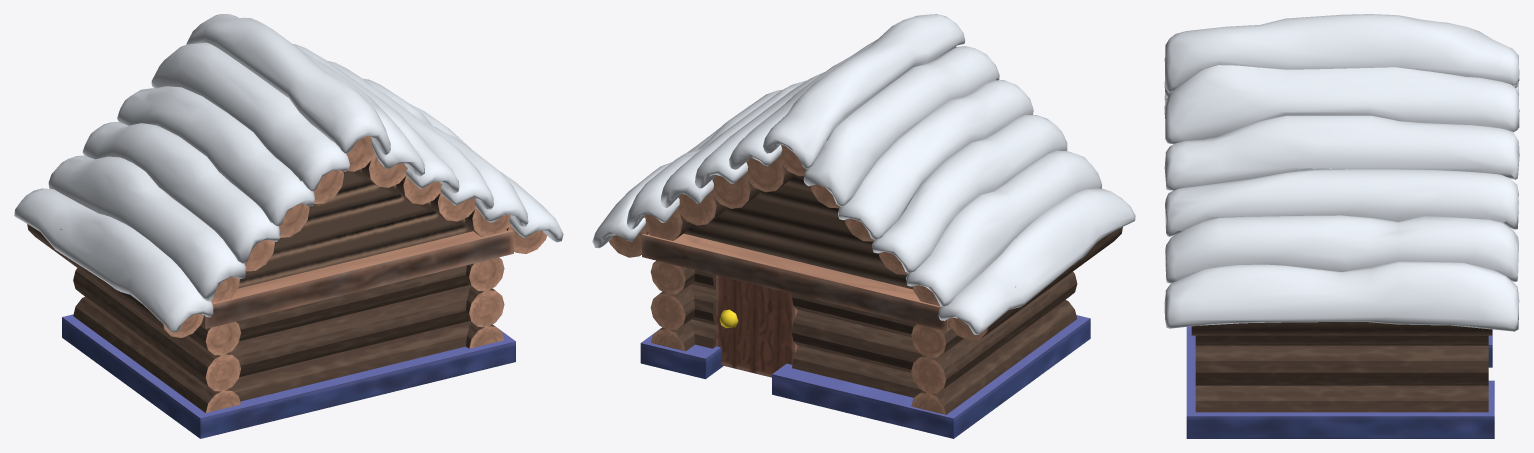
Rendered from cabin_8.glb.
The picture shows the model from 3 angles, left to right: view 1: azimuth 30°, elevation 25°; view 2: azimuth 150°, elevation 25°; view 3: azimuth 270°, elevation 25°; orthographic projection. The views are drawn at different scales.
Visible parts, largest first — view 1: Snow, Wall Back.005, Base.007, Top of House.007, Wall Right.009, Plank.049, Roof.007, Wall Left.009; view 2: Snow, Base.007, Wall Front.006, Top of House.007, Wall Right.009, Plank.049, Roof.007, Door, Wall Left.009; view 3: Snow, Wall Left.009, Base.007, Roof.007.
Boxes of the visible parts, <box> form: Snow: <box>14,14,563,332</box>; Wall Back.005: <box>229,265,470,401</box>; Base.007: <box>62,314,515,438</box>; Top of House.007: <box>238,169,472,288</box>; Wall Right.009: <box>73,268,240,412</box>; Plank.049: <box>200,230,513,328</box>; Roof.007: <box>27,136,547,337</box>; Wall Left.009: <box>466,257,504,348</box>; Snow: <box>592,14,1135,334</box>; Base.007: <box>640,315,1090,438</box>; Wall Front.006: <box>690,270,922,397</box>; Top of House.007: <box>684,174,913,289</box>; Wall Right.009: <box>911,272,1077,414</box>; Plank.049: <box>642,233,951,331</box>; Roof.007: <box>609,145,1122,340</box>; Door: <box>716,275,799,377</box>; Wall Left.009: <box>650,260,694,351</box>; Snow: <box>1164,14,1519,331</box>; Wall Left.009: <box>1195,335,1488,412</box>; Base.007: <box>1186,326,1494,438</box>; Roof.007: <box>1191,322,1492,335</box>.
Size of the model in its own units: 6.92 by 5.05 by 4.85.
9 materials, 8 textured.
